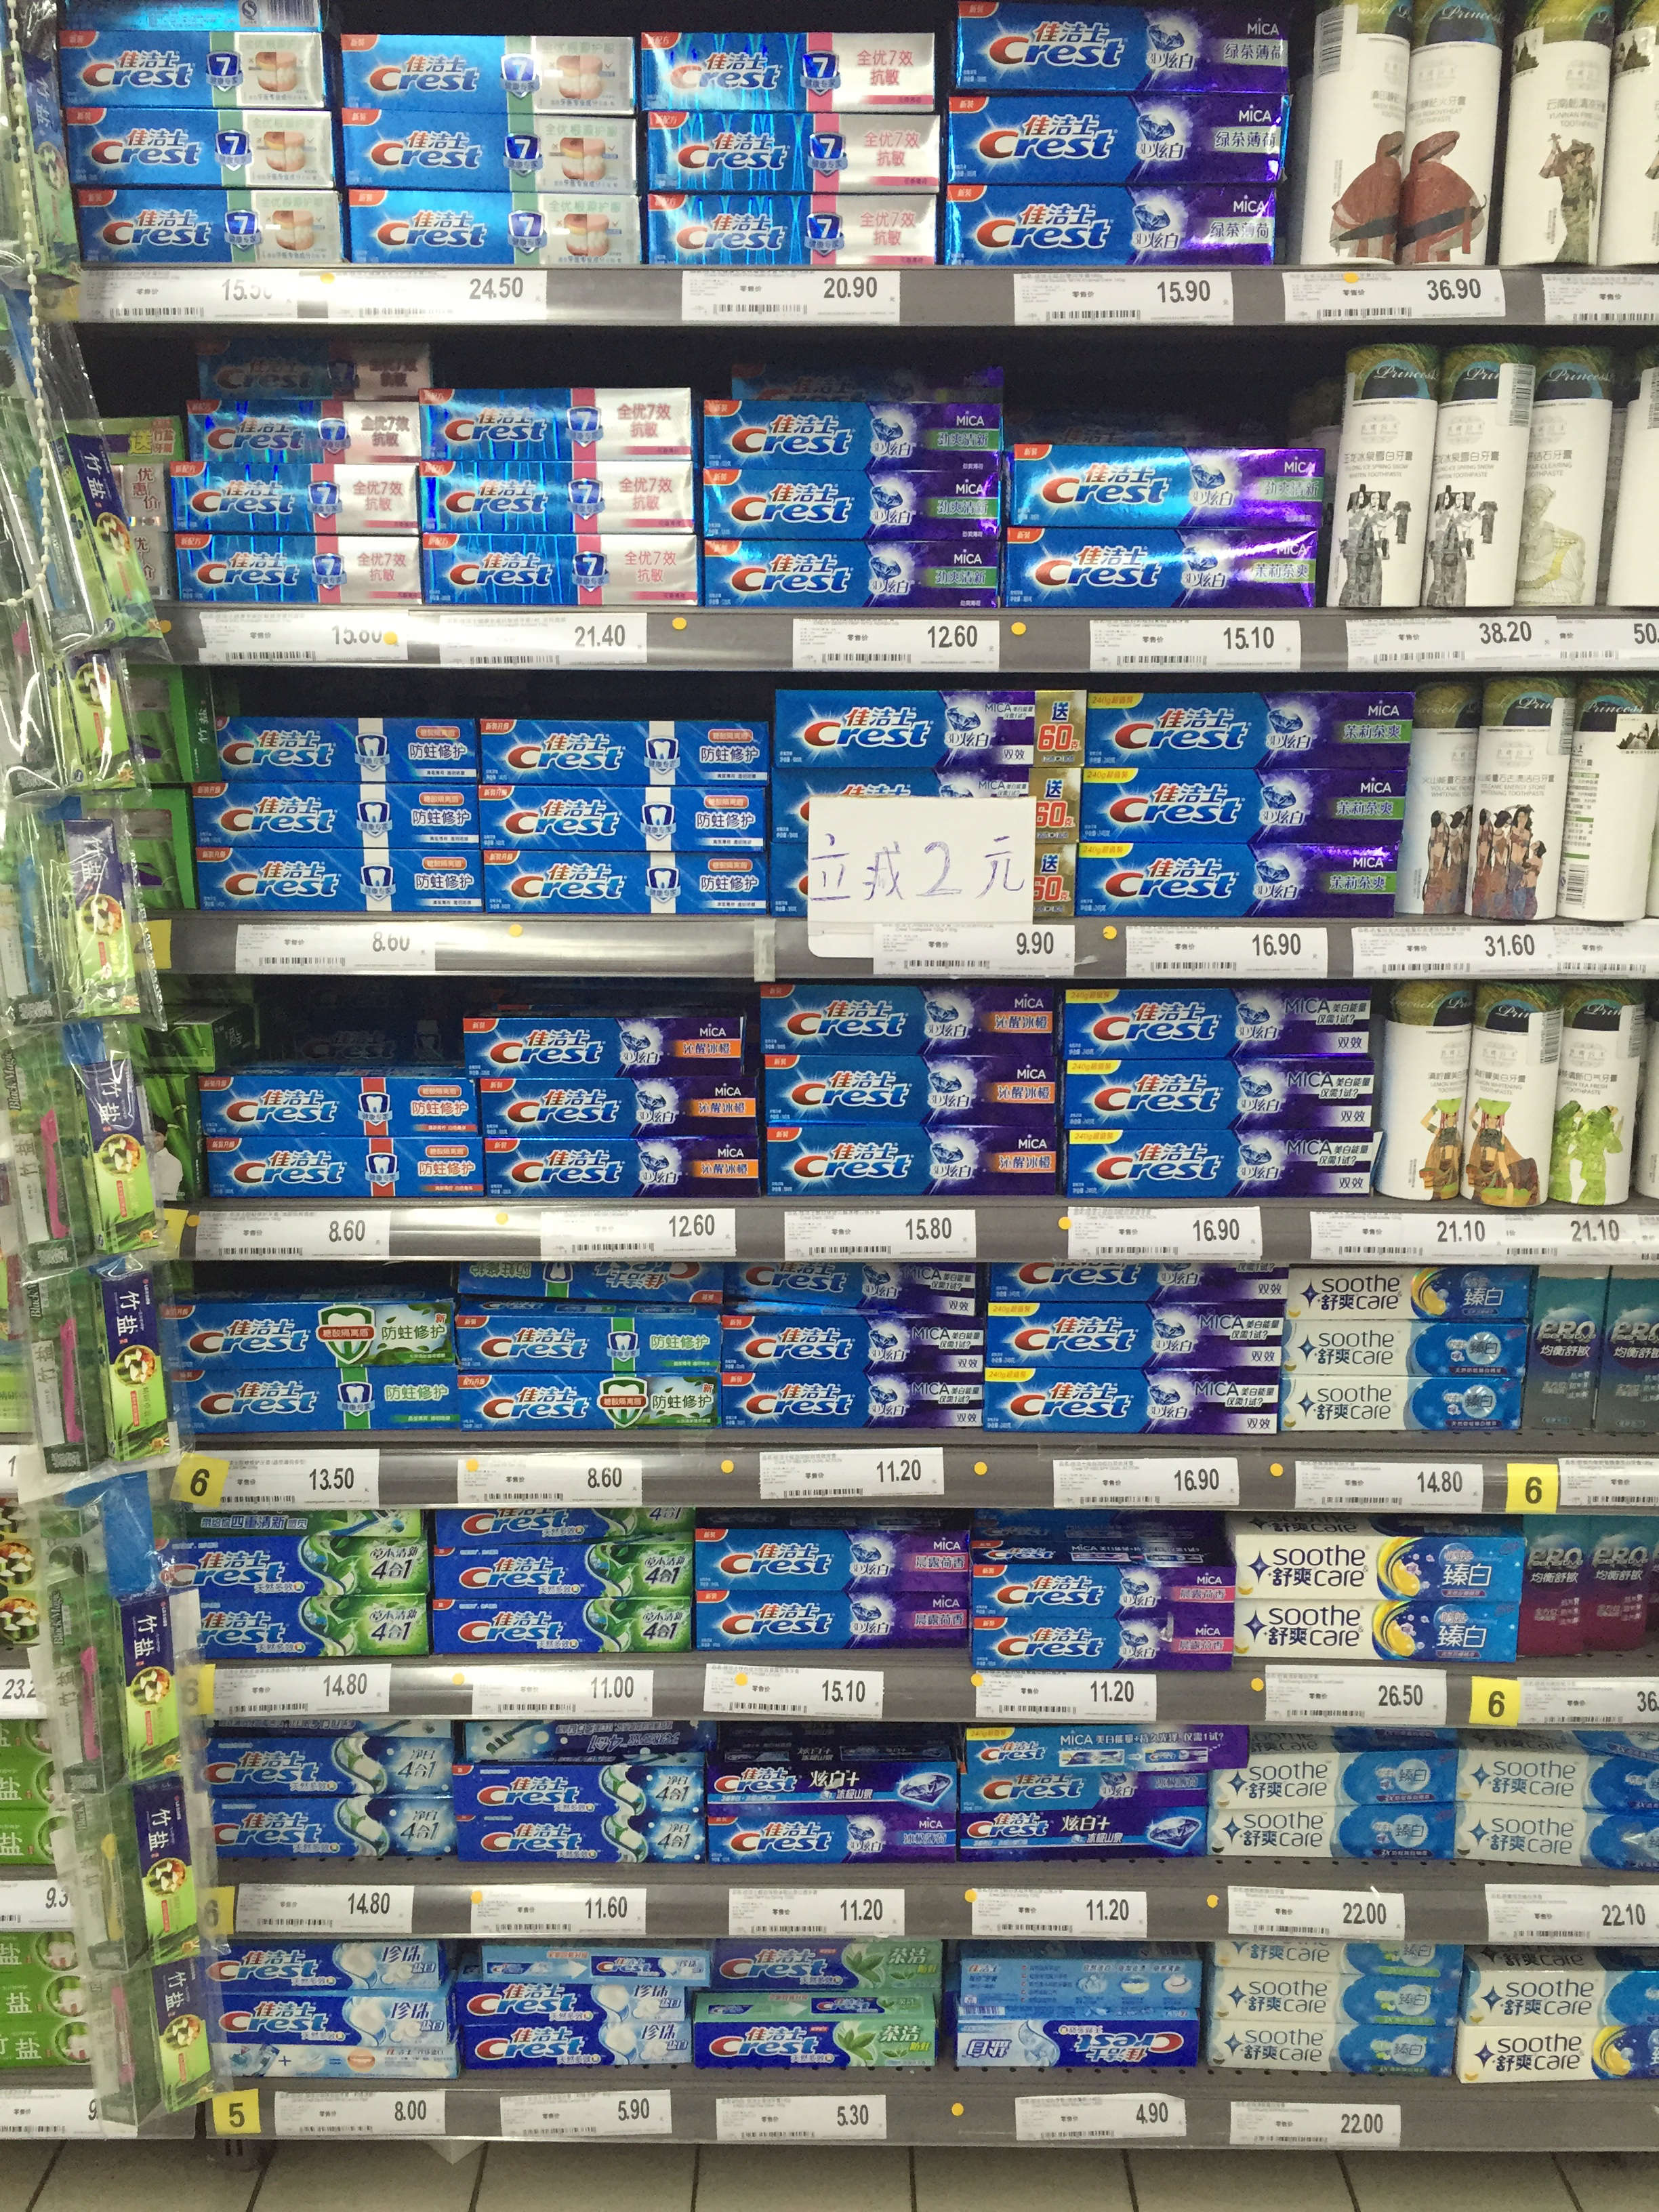Misplacement: (220, 1007, 464, 1075)
